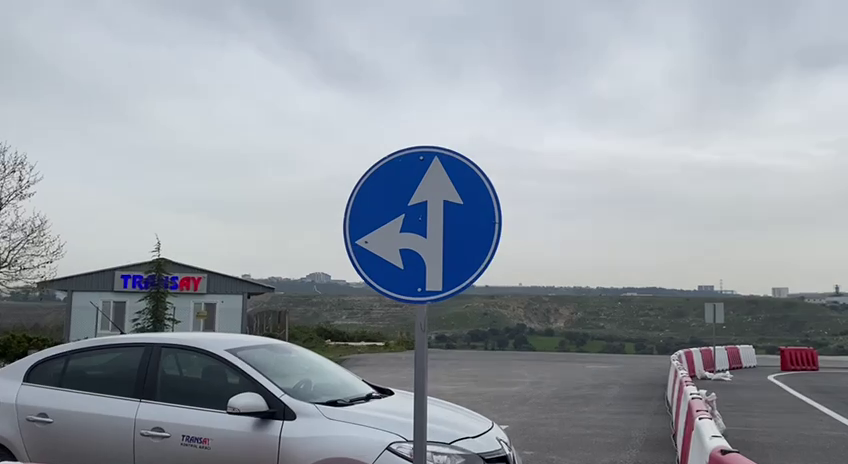forwardAndLeft: (340, 141, 503, 307)
